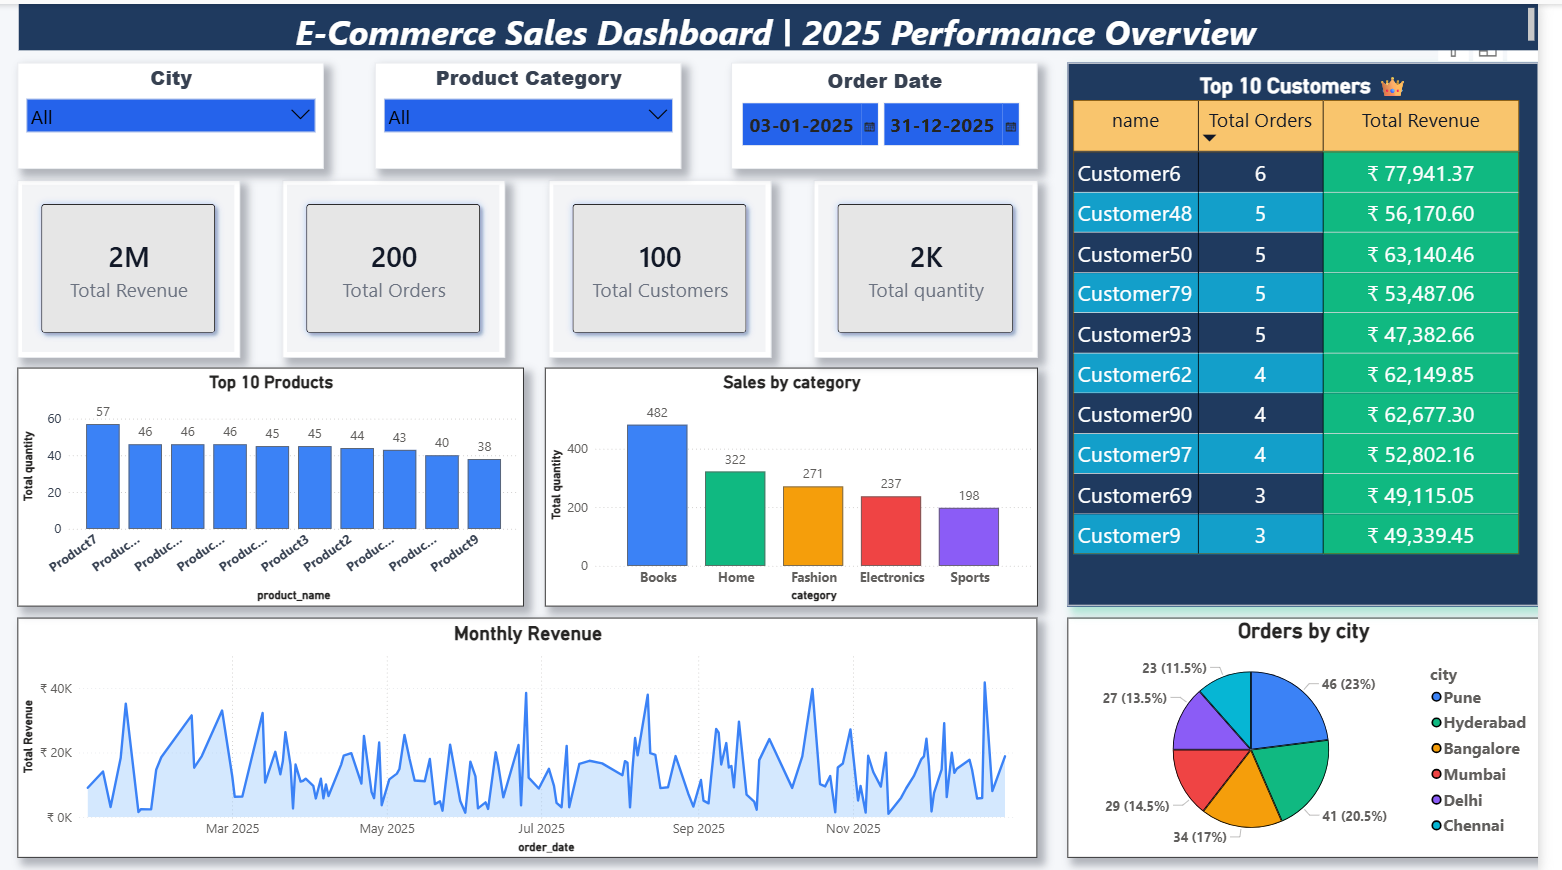

This screenshot's page, from the dashboard's own definition file:
{"tool":"powerbi","page":{"name":"Page 1","canvas":[1920,1080],"ordinal":0},"visuals":[{"type":"cardVisual","fields":{"Data":["orders.Total Revenue"]},"box":[28,219.2,276.7,220.7],"z":0},{"type":"cardVisual","fields":{"Data":["orders.Total Orders"]},"box":[358,219.2,276.7,220.7],"z":1000},{"type":"cardVisual","fields":{"Data":["users.Total Customers"]},"box":[688.1,219.2,276.7,220.7],"z":2000},{"type":"columnChart","title":"Sales by category","fields":{"Y":["order_items.Total quantity"],"Category":["products.category"]},"box":[683.9,452.3,612.4,296.9],"z":3000},{"type":"lineChart","title":"Monthly Revenue","fields":{"Category":["orders.order_date"],"Y":["orders.Total Revenue"]},"box":[28,763.2,1268.4,298.4],"z":4000},{"type":"pieChart","title":"Orders by city","fields":{"Category":["users.city"],"Y":["orders.Total Orders"]},"box":[1333.7,763.2,586,298.4],"z":5000},{"type":"columnChart","title":"Top 10 Products ","fields":{"Y":["order_items.Total quantity"],"Category":["products.product_name"]},"box":[28,452.3,629.5,296.9],"z":6000},{"type":"tableEx","title":"Top 10 Customers 👑","fields":{"Values":["users.name","orders.Total Orders","orders.Total Revenue"]},"box":[1333,73,587.3,676.3],"z":7000},{"type":"cardVisual","fields":{"Data":["order_items.Total quantity"]},"box":[1018.1,219.2,278.2,220.7],"z":8000},{"type":"slicer","title":"City","fields":{"Values":["users.city"]},"box":[28,73.1,380.8,132.1],"z":9000},{"type":"slicer","title":"Order Date","fields":{"Values":["orders.order_date"]},"box":[915.5,73.1,380.8,132.1],"z":10000},{"type":"slicer","title":"Product Category","fields":{"Values":["products.category"]},"box":[471.8,73.1,380.8,132.1],"z":11000},{"type":"textbox","box":[28.8,0,1889.5,57.6],"z":12000}]}

Visuals, with their boxes in screenshot pixels (x1, y1, x2, y2), scaled from the page's 1920x1080 canvas onto the 1562x870 screenshot:
cardVisual - orders.Total Revenue: l=23, t=177, r=248, b=354
cardVisual - orders.Total Orders: l=291, t=177, r=516, b=354
cardVisual - users.Total Customers: l=560, t=177, r=785, b=354
"Sales by category" columnChart: l=556, t=364, r=1055, b=604
"Monthly Revenue" lineChart: l=23, t=615, r=1055, b=855
"Orders by city" pieChart: l=1085, t=615, r=1561, b=855
"Top 10 Products " columnChart: l=23, t=364, r=535, b=604
"Top 10 Customers 👑" tableEx: l=1084, t=59, r=1561, b=604
cardVisual - order_items.Total quantity: l=828, t=177, r=1055, b=354
"City" slicer: l=23, t=59, r=333, b=165
"Order Date" slicer: l=745, t=59, r=1055, b=165
"Product Category" slicer: l=384, t=59, r=694, b=165
textbox: l=23, t=0, r=1561, b=46
